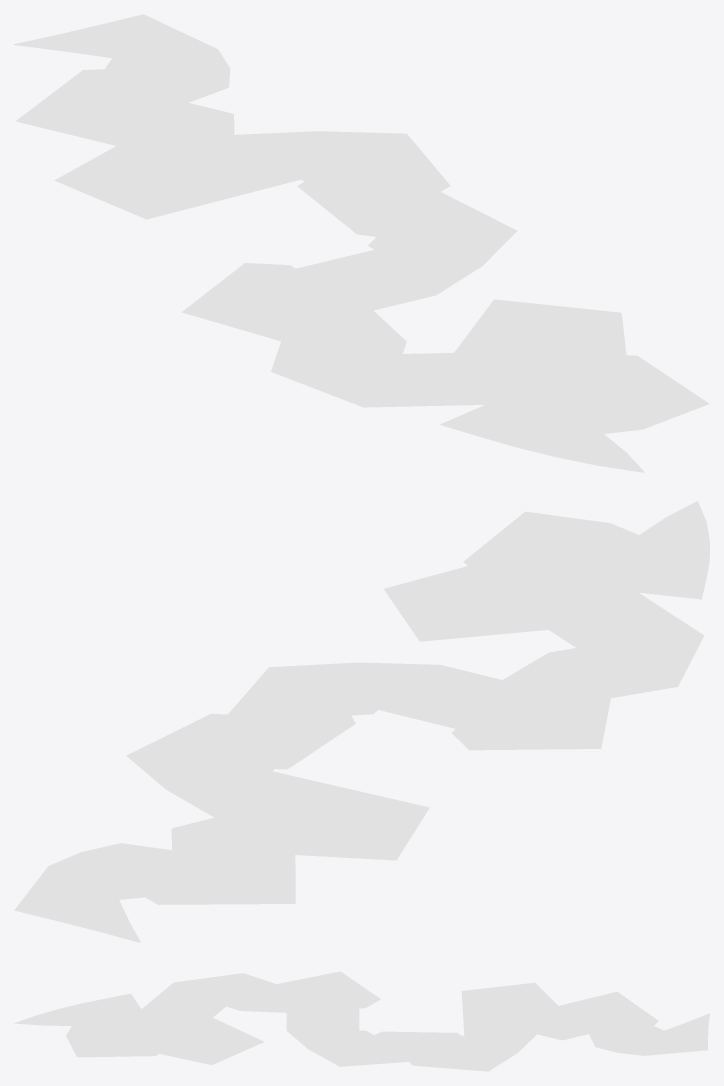
Rendered from lightning_01.FBX.
The picture shows the model from 3 angles, top to bottom: view 1: azimuth 30°, elevation 25°; view 2: azimuth 150°, elevation 25°; view 3: azimuth 270°, elevation 25°; orthographic projection. The views are drawn at different scales.
Parts seen in each view (by area): view 1: Plane002; view 2: Plane002; view 3: Plane002.
Part boxes in pixels (box(x1,y1,x2,y2)): Plane002: box(14, 14, 709, 472); Plane002: box(14, 501, 709, 942); Plane002: box(14, 971, 709, 1071).
Bounding box in the file's own units: 32.65 × 5.87e-15 × 95.8.
